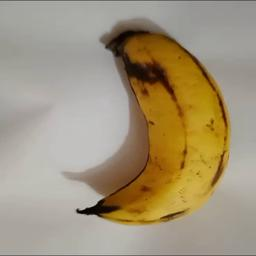Banana Semifresh: (75, 31, 232, 228)
